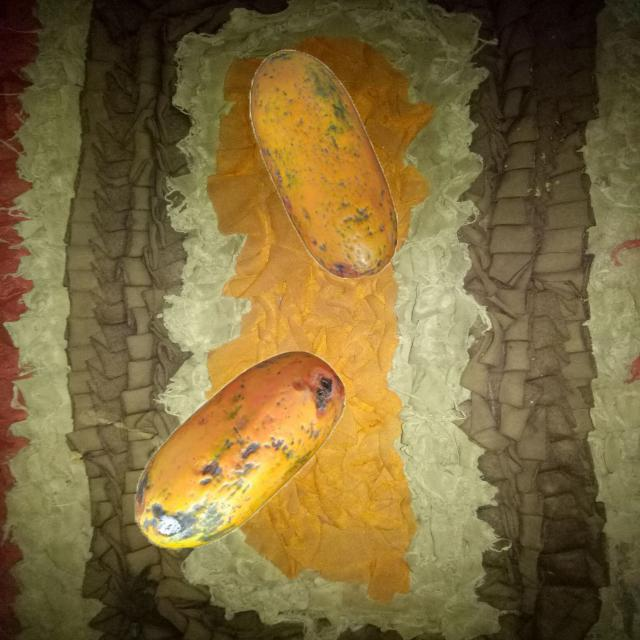Pepaya rippen: (133, 350, 362, 553), (239, 52, 410, 284)
